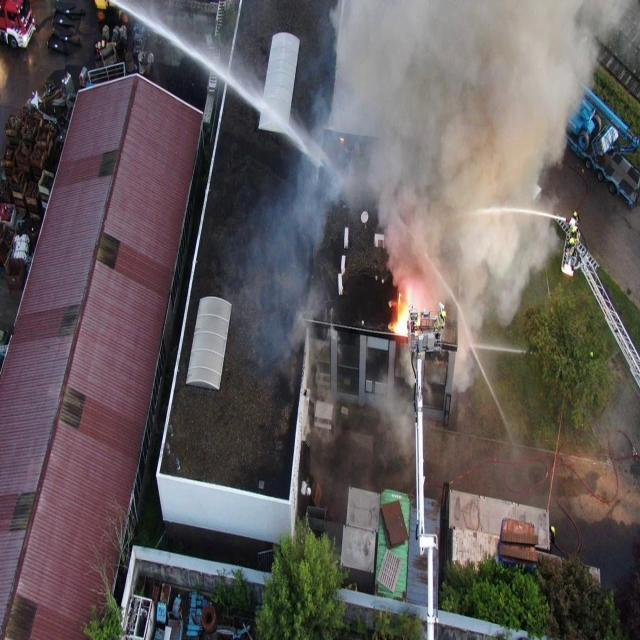Fire: (391, 288, 420, 336), (340, 137, 344, 143)
Smoke: (219, 0, 640, 467)
